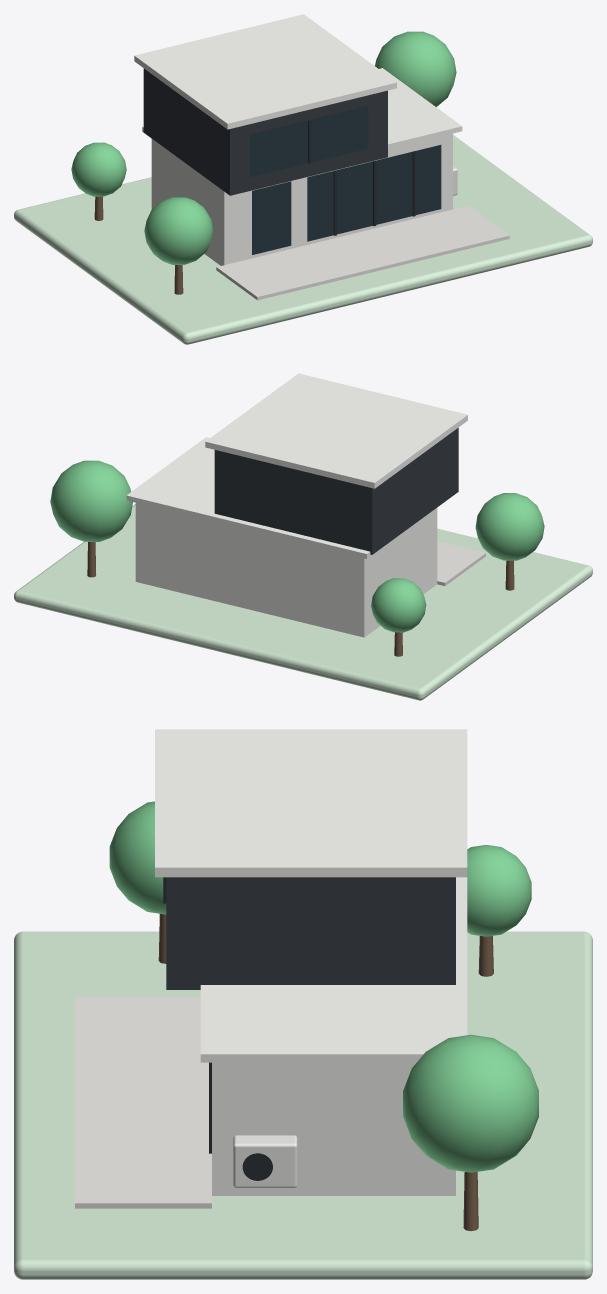
File: 03_maison_jour.glb
3 views of the same model, one above another, from view 1: azimuth 30°, elevation 25°; view 2: azimuth 150°, elevation 25°; view 3: azimuth 270°, elevation 25° (orthographic). The views are drawn at different scales.
Parts seen in each view (by area): view 1: Maison_jour; view 2: Maison_jour; view 3: Maison_jour.
Part boxes in pixels (box(x1,y1,x2,y2)): Maison_jour: box(14, 14, 592, 344); Maison_jour: box(14, 373, 592, 700); Maison_jour: box(14, 729, 592, 1279).
Bounding box in the file's own units: 5.2 × 2.09 × 3.8.
